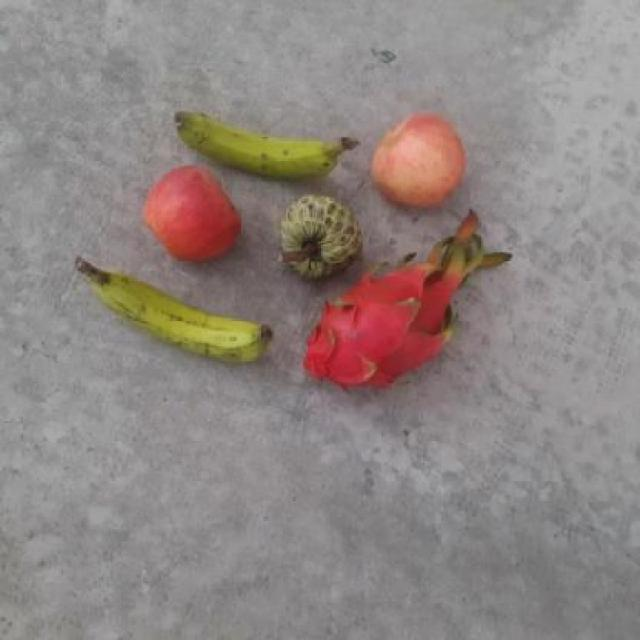apple: (143, 164, 243, 262), (369, 113, 466, 209)
banana: (91, 256, 275, 367), (171, 101, 351, 181)
dragon fruit: (297, 267, 454, 396)
sugar apple: (273, 192, 362, 280)
